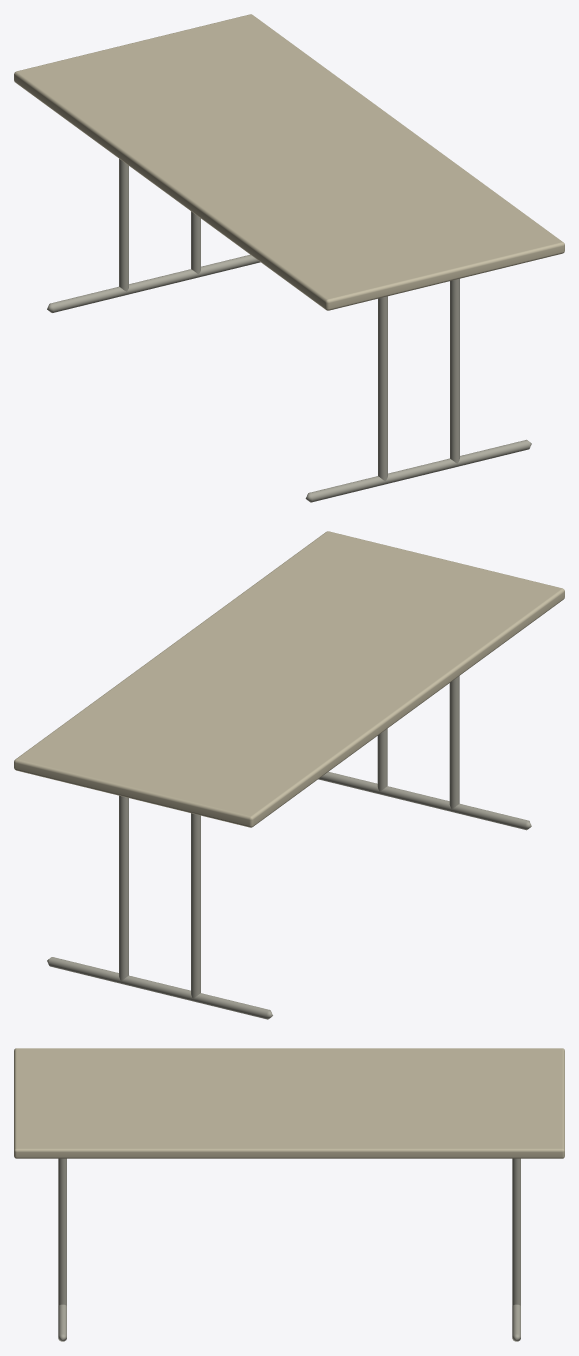
File: M_1_Table.fbx
The picture shows the model from 3 angles, top to bottom: view 1: azimuth 30°, elevation 25°; view 2: azimuth 150°, elevation 25°; view 3: azimuth 270°, elevation 25°; orthographic projection. The views are drawn at different scales.
Visible parts, largest first — view 1: pCube2; view 2: pCube2; view 3: pCube2.
Part boxes in pixels (box(x1,y1,x2,y2)): pCube2: box(14, 14, 564, 502); pCube2: box(14, 531, 564, 1019); pCube2: box(14, 1048, 564, 1341).
Bounding box in the file's own units: 110 × 98.5 × 250.
